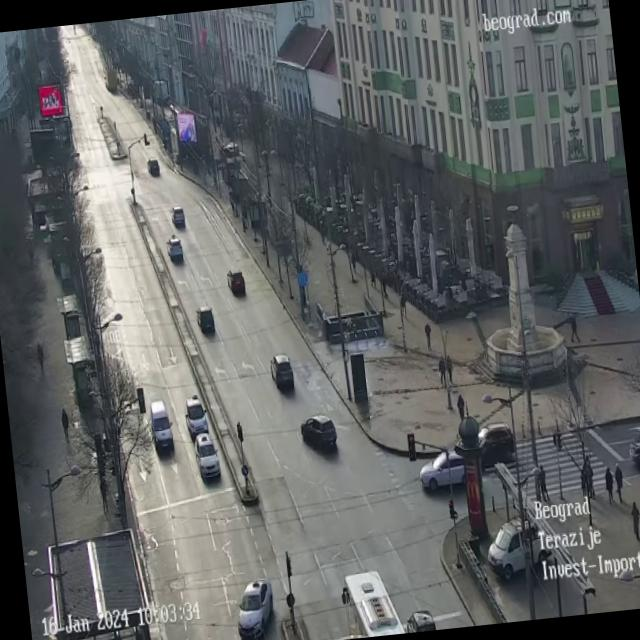bus: (339, 569, 400, 639)
car: (484, 508, 547, 573), (456, 419, 516, 468), (232, 578, 276, 640), (417, 447, 467, 492), (298, 411, 338, 450), (148, 398, 174, 451), (195, 433, 220, 479), (268, 352, 294, 392), (186, 393, 209, 436), (405, 608, 436, 632), (195, 305, 215, 335), (226, 268, 246, 296), (165, 234, 183, 262), (170, 205, 186, 228), (146, 156, 160, 176)
